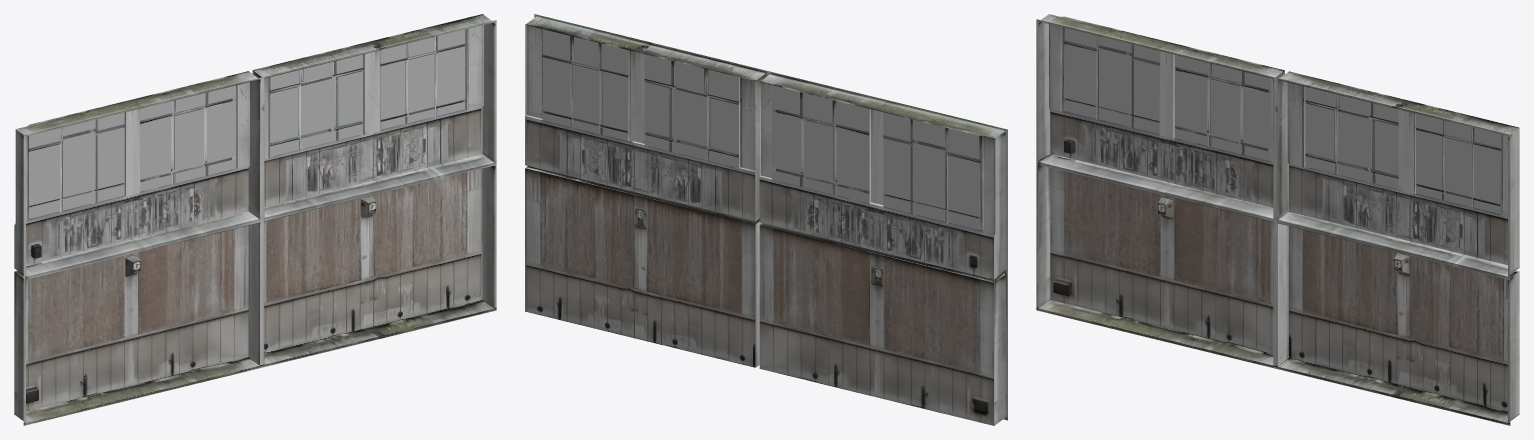
Rendered from building_empty.obj.
3 views of the same model, side by side, from view 1: azimuth 30°, elevation 25°; view 2: azimuth 150°, elevation 25°; view 3: azimuth 330°, elevation 25° (orthographic).
Visible parts, largest first — view 1: building_empty; view 2: building_empty; view 3: building_empty.
Boxes of the visible parts, x1,y1,x2,y2 form: building_empty: (14,14,496,425); building_empty: (525,14,1007,425); building_empty: (1036,14,1519,425).
Bounding box in the file's own units: 4.99 × 2.93 × 0.2231.
